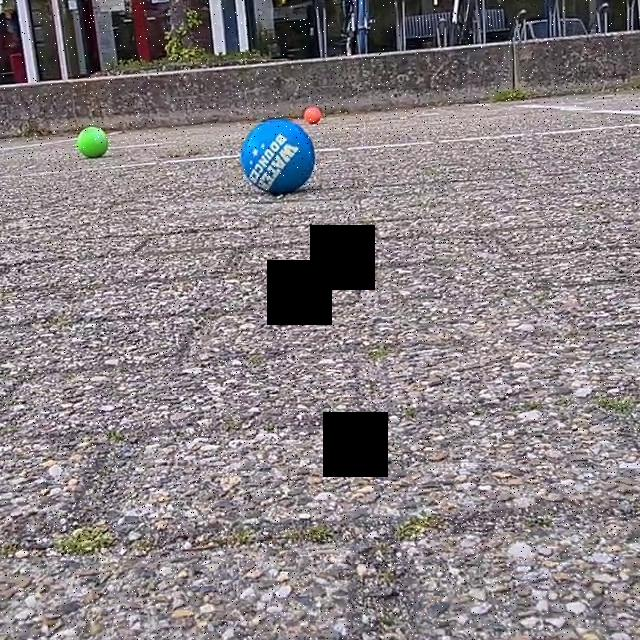ball: (76, 124, 112, 163), (302, 102, 324, 128)
